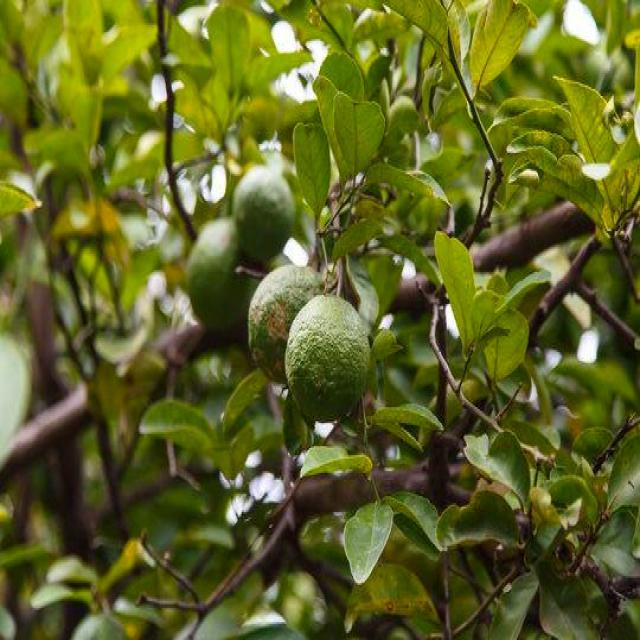Jeruk Belum Matang: (284, 293, 371, 427), (246, 265, 330, 384), (192, 222, 252, 326), (233, 168, 296, 260)
